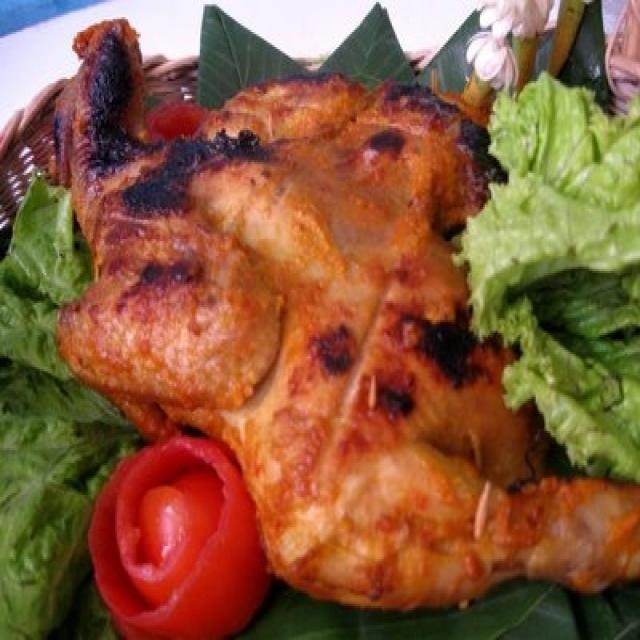鸡肉料理 含炸鸡: (33, 13, 610, 614)
